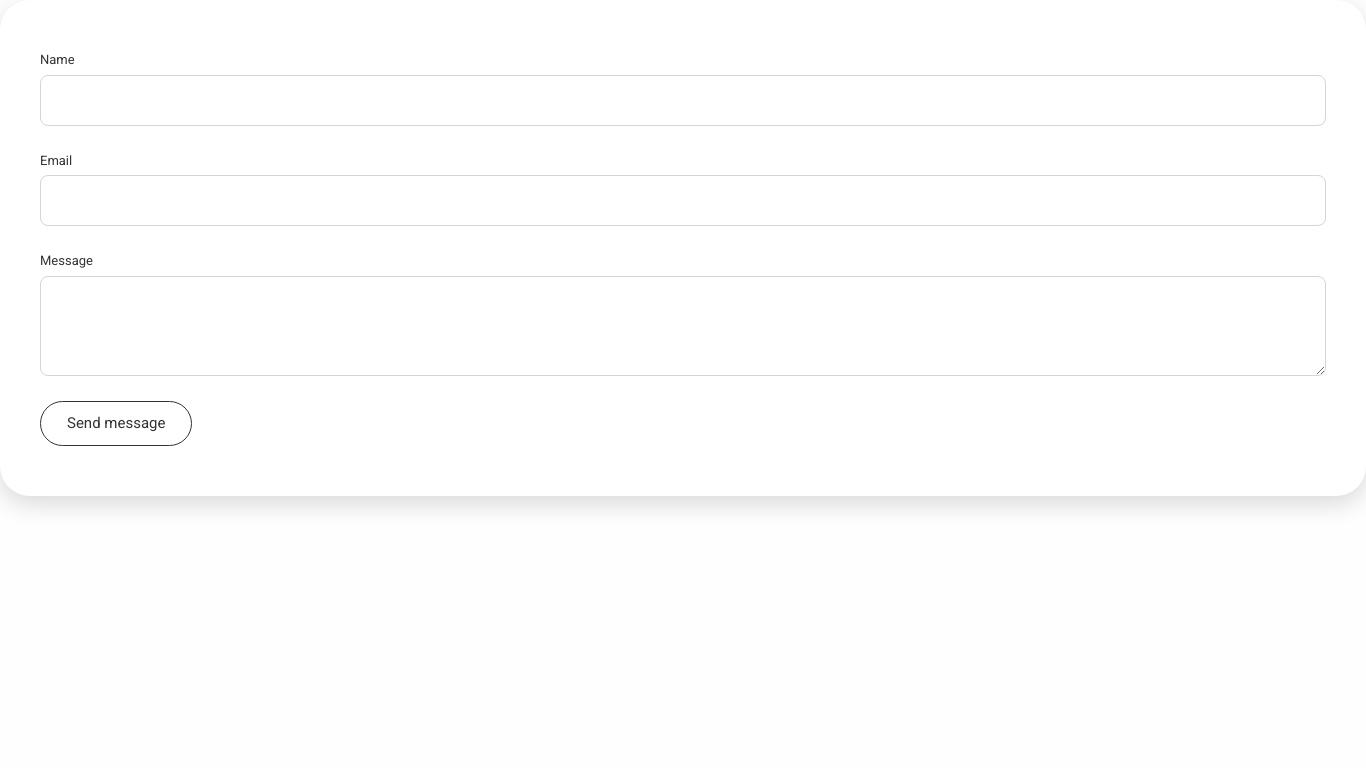
Form › form interaction › should handle successful form submission
The width and height of the screenshot is (1366, 768).
In the field labelled "Name": (683, 100) [40, 74, 1326, 126], type "John Doe"
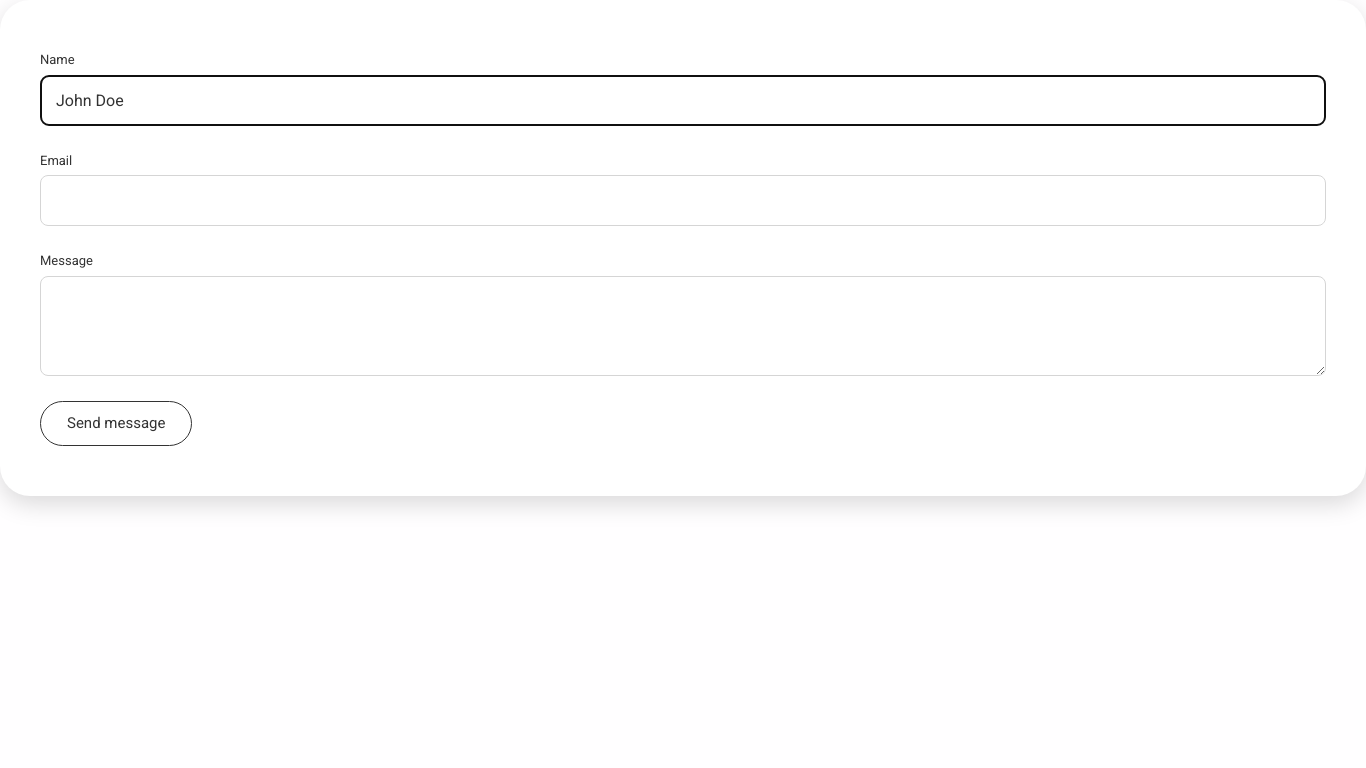
In the field labelled "Email": (683, 200) [40, 175, 1326, 226], type "john@example.com"
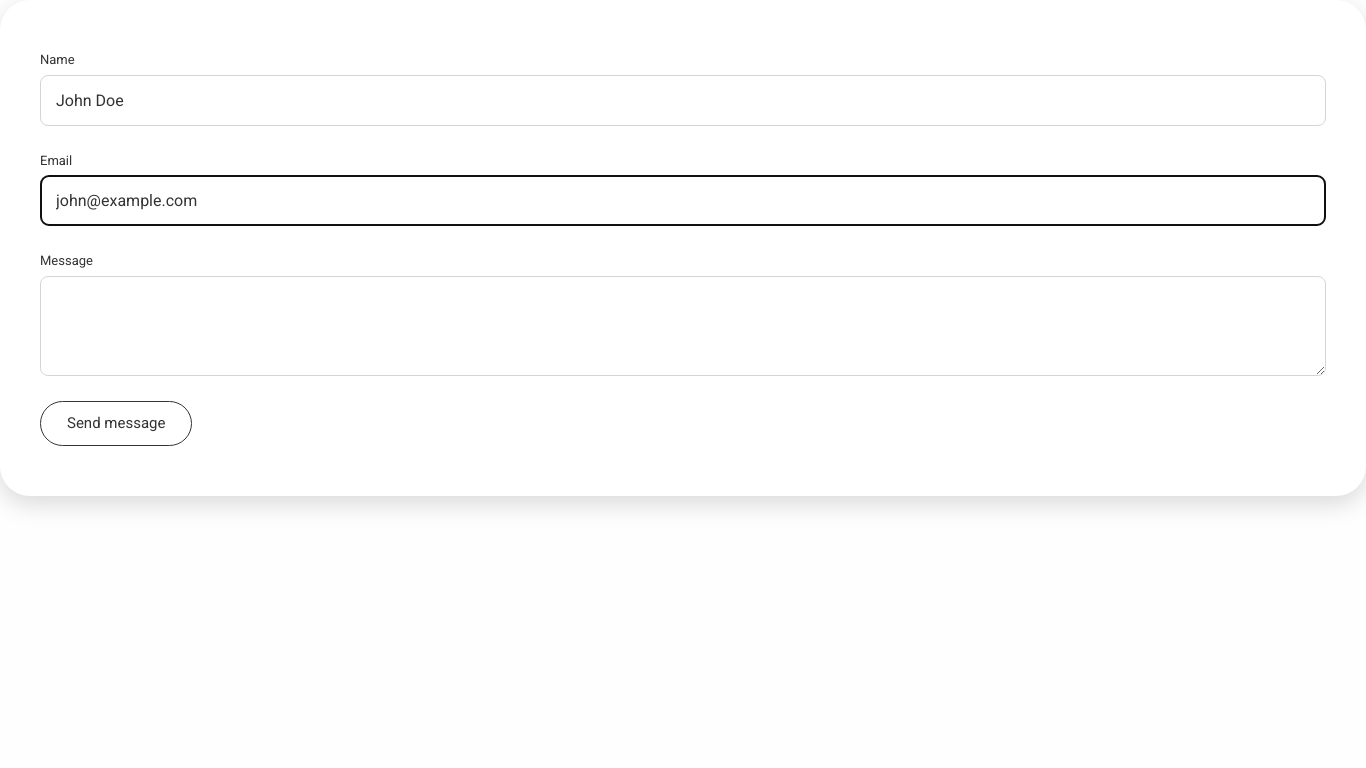
In the text box labelled "Message": (683, 326) [40, 276, 1326, 376], type "Test message with enough characters"
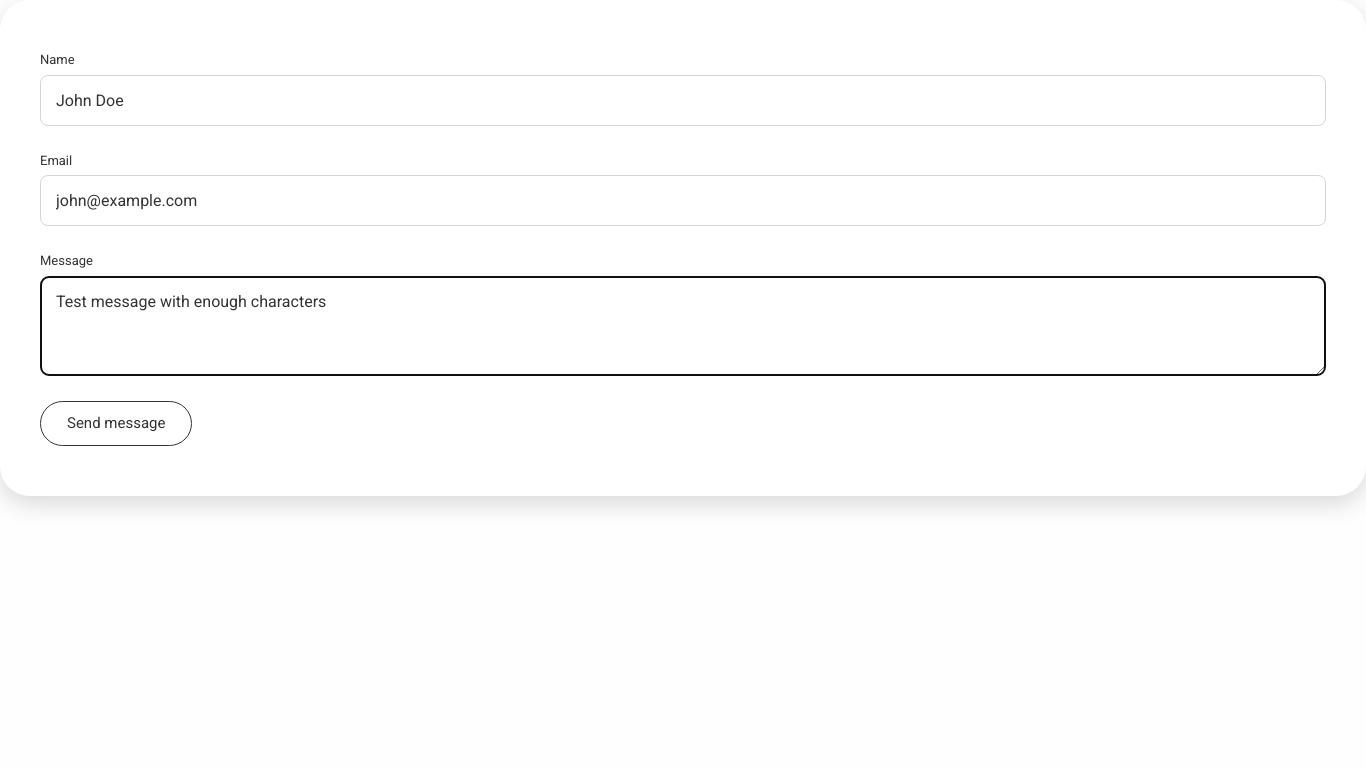
Click the button "Send message": (116, 423) [40, 400, 192, 446]
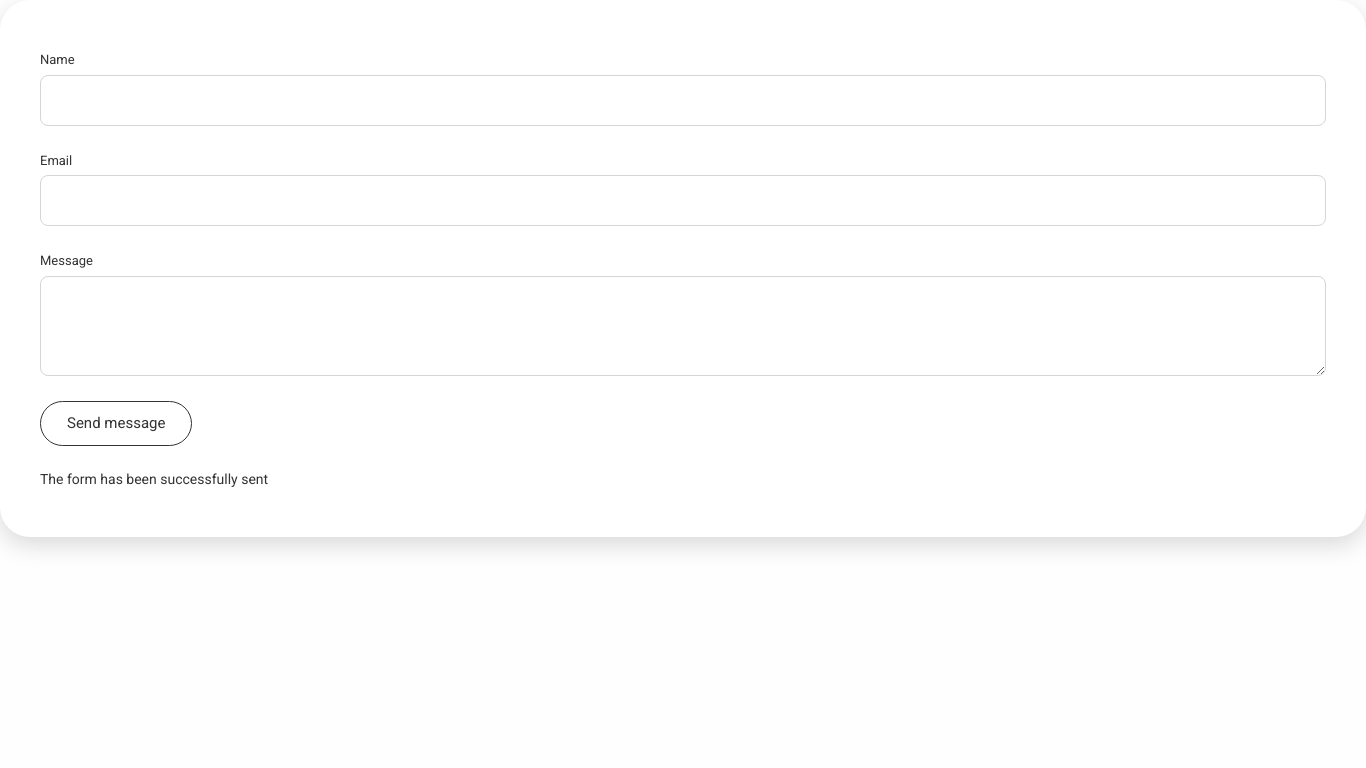
Expected: the text "The form has been successfully sent" is shown, [40, 470, 268, 486]
Expected: the field labelled "Name" is empty, [40, 74, 1326, 126]
Expected: the field labelled "Email" is empty, [40, 175, 1326, 226]
